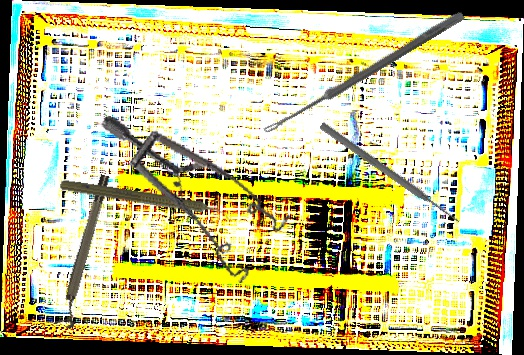Fixation Ring: (52, 173, 119, 330)
Handpiece: (58, 176, 236, 224)
Pusher: (318, 120, 462, 227)
Speculum: (73, 114, 305, 291)
Surgical Spoon: (261, 9, 466, 138)
